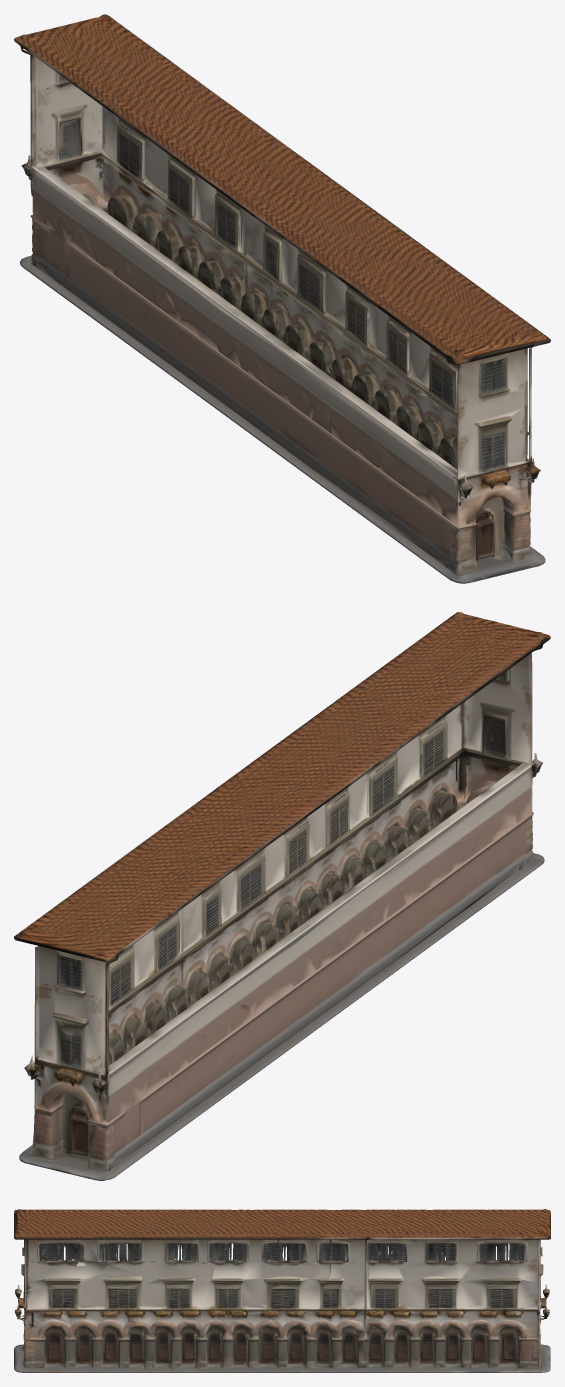
The picture shows the model from 3 angles, top to bottom: view 1: azimuth 30°, elevation 25°; view 2: azimuth 150°, elevation 25°; view 3: azimuth 270°, elevation 25°; orthographic projection. The views are drawn at different scales.
Parts seen in each view (by area): view 1: node_0; view 2: node_0; view 3: node_0.
Boxes of the visible parts, x1,y1,x2,y2 form: node_0: (14, 14, 550, 583); node_0: (14, 612, 550, 1180); node_0: (14, 1209, 550, 1372).
Bounding box in the file's own units: 0.1447 × 0.3264 × 1.15.
1 material, 1 textured.
